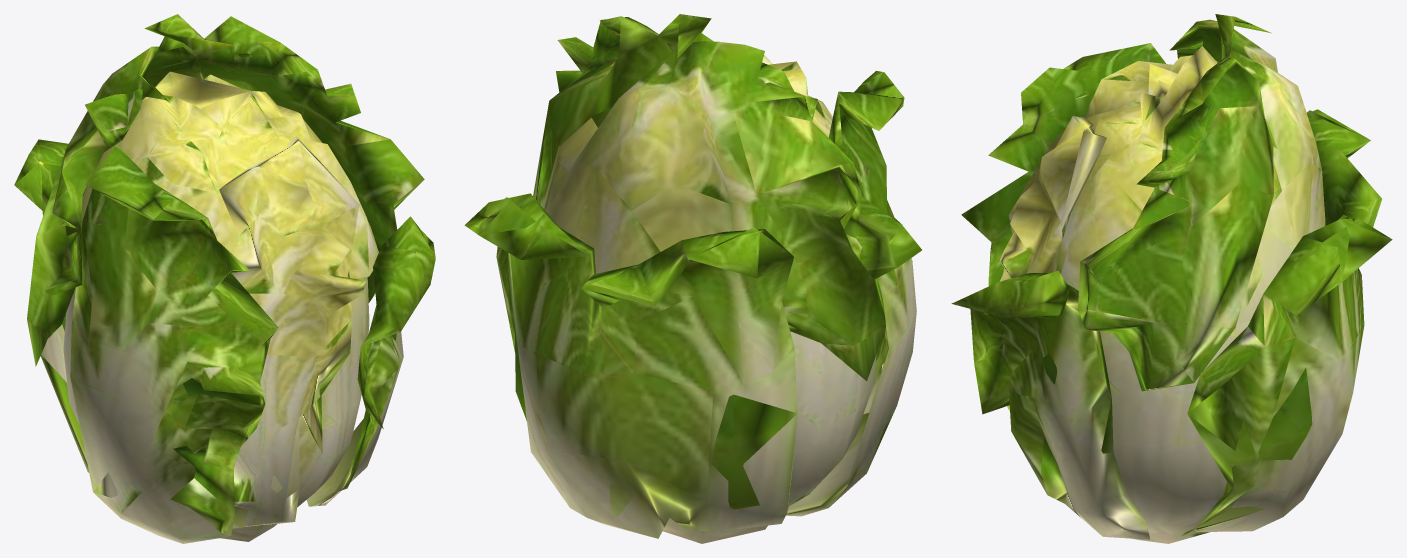
Rendered from crop_cabbage.glb.
3 renders of one model, left to right at view 1: azimuth 30°, elevation 25°; view 2: azimuth 150°, elevation 25°; view 3: azimuth 270°, elevation 25°, orthographic. The views are drawn at different scales.
Size of the model in its own units: 0.7467 by 0.9977 by 0.7873.
Materials: 1 (1 with a texture image).
